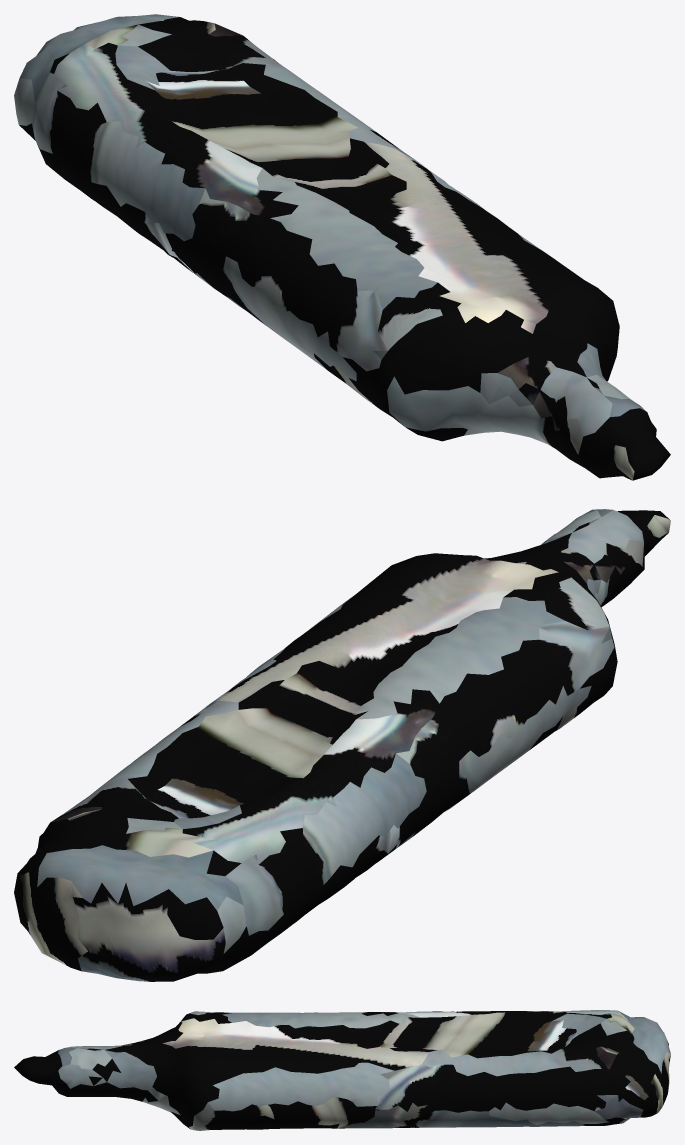
File: scan_align.obj
The picture shows the model from 3 angles, top to bottom: view 1: azimuth 30°, elevation 25°; view 2: azimuth 150°, elevation 25°; view 3: azimuth 270°, elevation 25°; orthographic projection. The views are drawn at different scales.
Bounding box in the file's own units: 0.0256 × 0.0138 × 0.1012.
